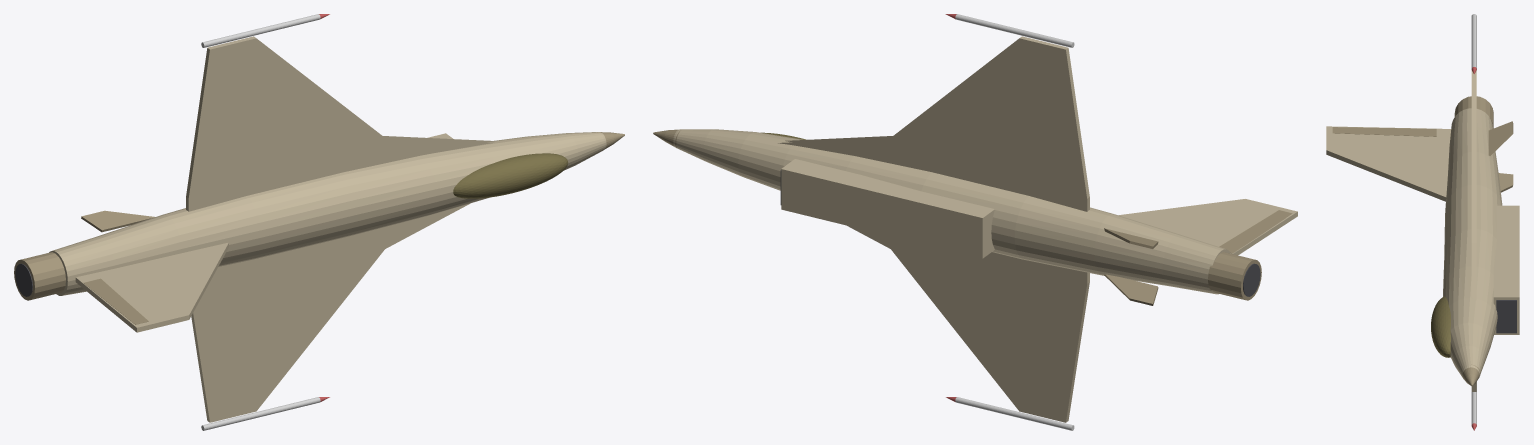
The model's file is f16_body_sand.glb.
3 renders of one model, left to right at view 1: azimuth 30°, elevation 25°; view 2: azimuth 150°, elevation 25°; view 3: azimuth 270°, elevation 25°, orthographic. The views are drawn at different scales.
Parts seen in each view (by area): view 1: part0, part5, part6, part11, part4, part15, part13, part12, part7, part9; view 2: part5, part0, part6, part2, part11, part15, part14, part12, part7, part9; view 3: part0, part11, part2, part5, part4, part12, part3, part13, part15, part7, part1, part14 (+1 smaller).
Part boxes in pixels (x1,y1,x2,y2): part0: (49, 132, 606, 295); part5: (186, 36, 495, 211); part6: (191, 203, 470, 422); part11: (75, 242, 228, 332); part4: (453, 153, 568, 198); part15: (14, 252, 65, 300); part13: (81, 210, 154, 232); part12: (83, 278, 148, 324); part7: (201, 14, 320, 47); part9: (201, 397, 320, 430); part5: (778, 36, 1089, 211); part0: (673, 129, 1230, 294); part6: (847, 225, 1089, 422); part2: (781, 159, 994, 258); part11: (1118, 199, 1297, 255); part15: (1208, 252, 1261, 300); part14: (1104, 274, 1158, 305); part12: (1219, 210, 1292, 253); part7: (955, 14, 1074, 47); part9: (955, 397, 1074, 430); part0: (1443, 108, 1502, 378); part11: (1326, 126, 1451, 201); part2: (1493, 205, 1519, 334); part5: (1471, 70, 1476, 300); part4: (1431, 296, 1450, 357); part12: (1332, 127, 1436, 136); part3: (1496, 300, 1516, 333); part13: (1488, 121, 1513, 155); part15: (1454, 96, 1493, 128); part7: (1471, 14, 1476, 68); part1: (1462, 364, 1480, 386); part14: (1498, 173, 1513, 192).
Bounding box in the file's own units: 15.47 × 9.57 × 4.64.
